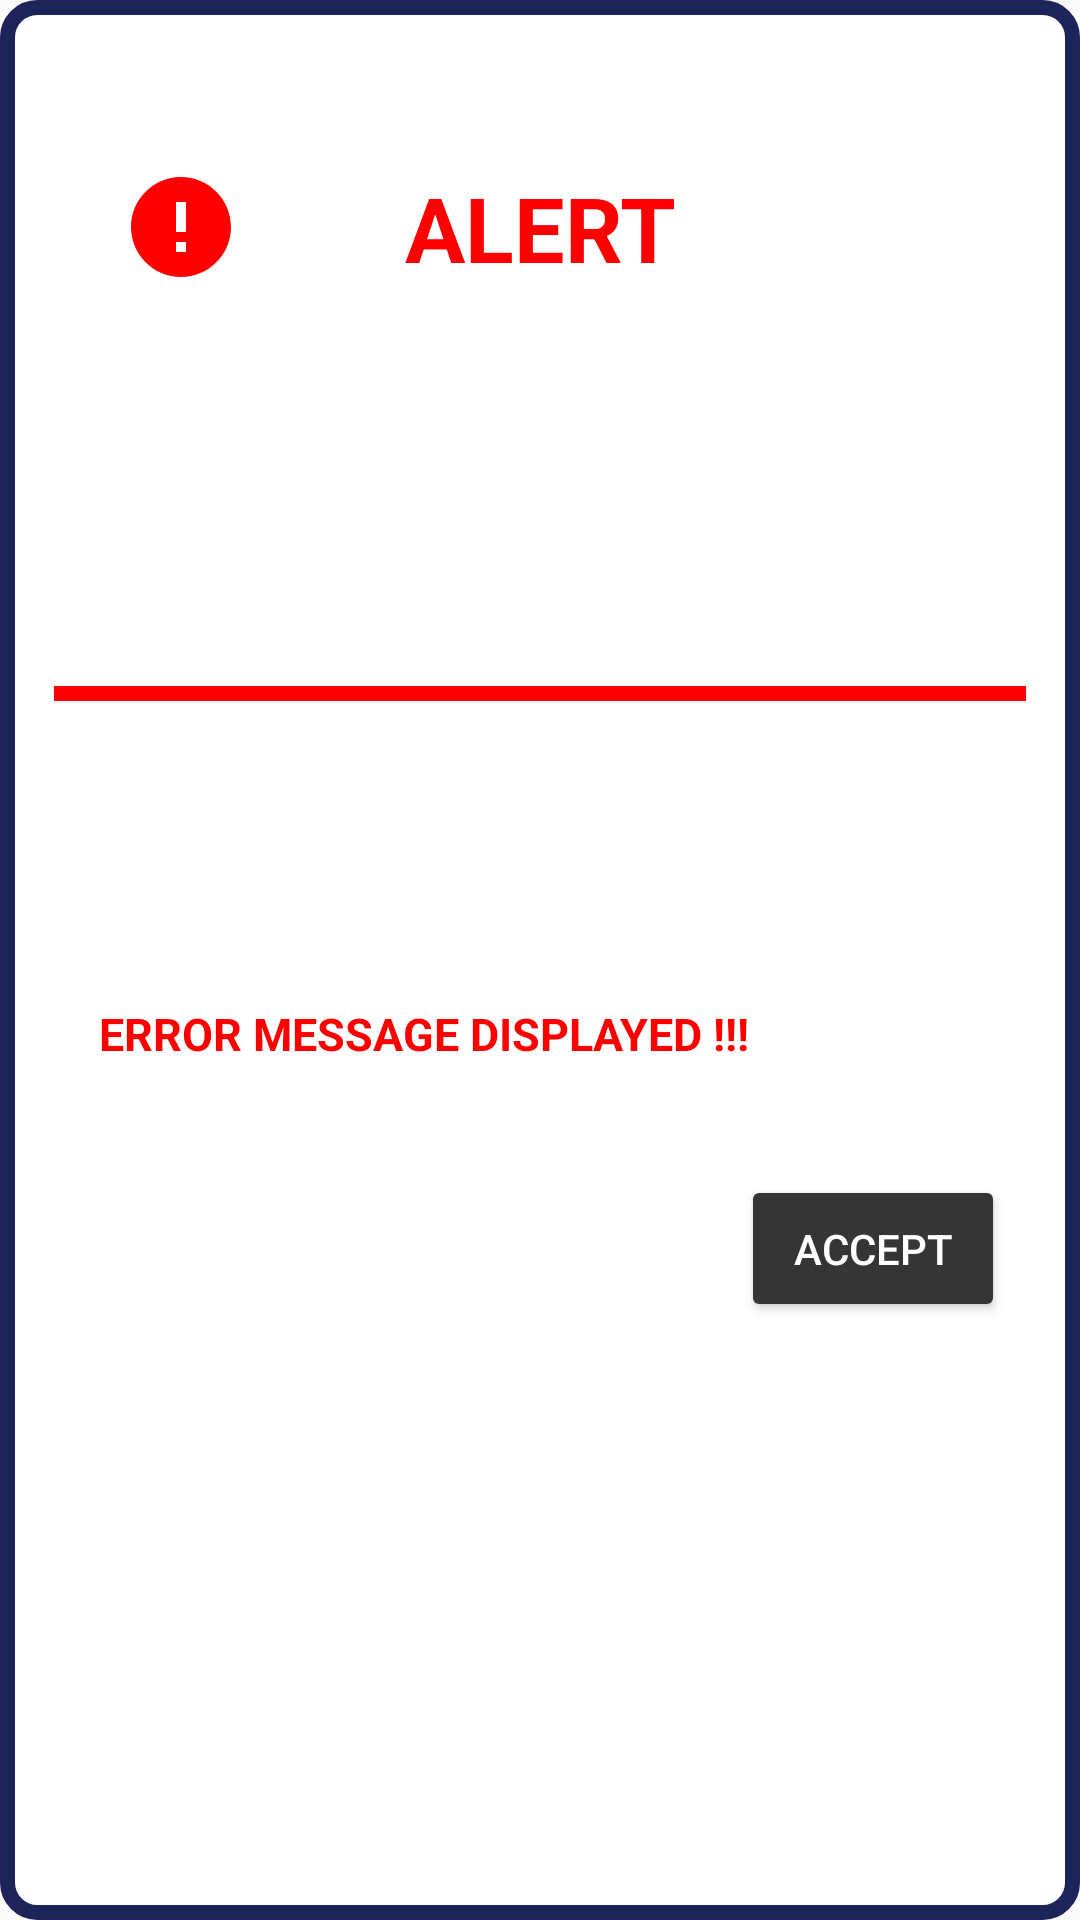

Where icons sit on this 1080px x 1920px app screen, as (x1, y1, x2, y2):
error: (131, 177, 231, 277)
